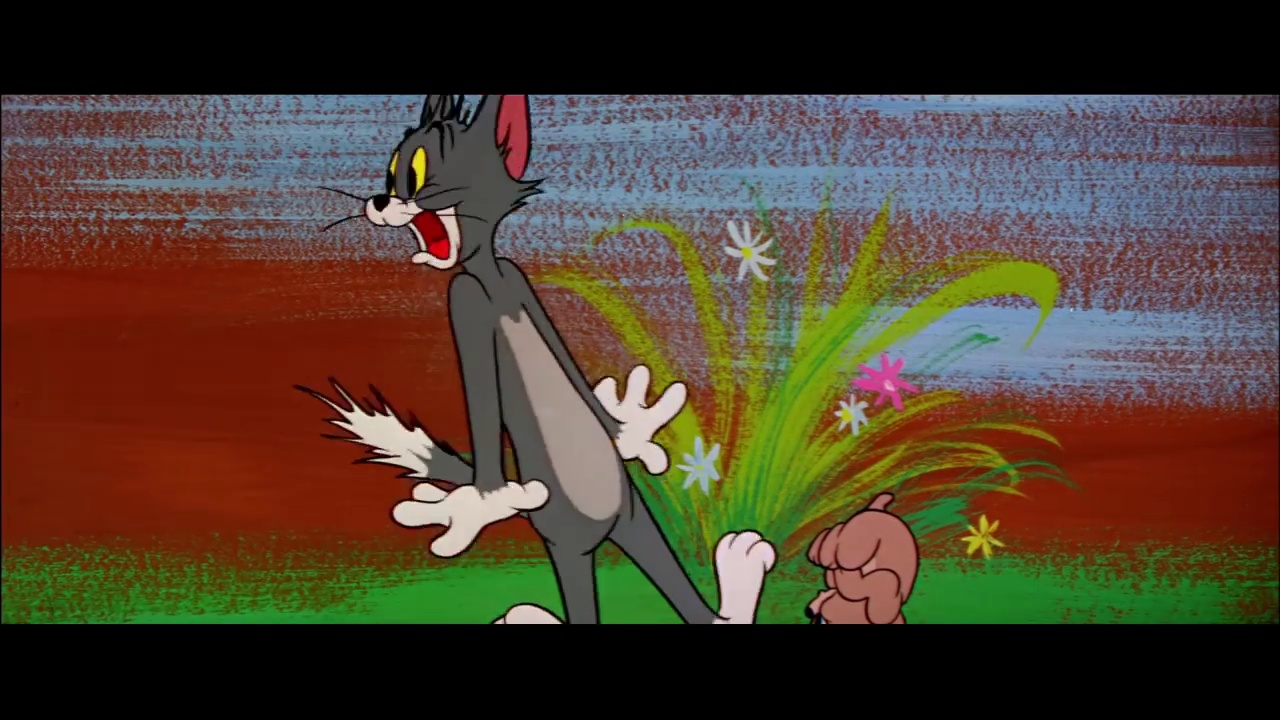tom: (358, 95, 539, 283)
